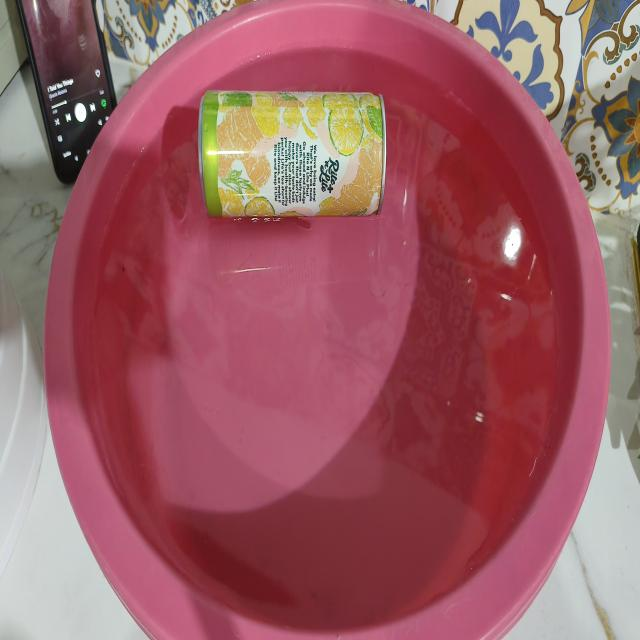Aluminum Can: (197, 90, 387, 223), (268, 49, 356, 79)
